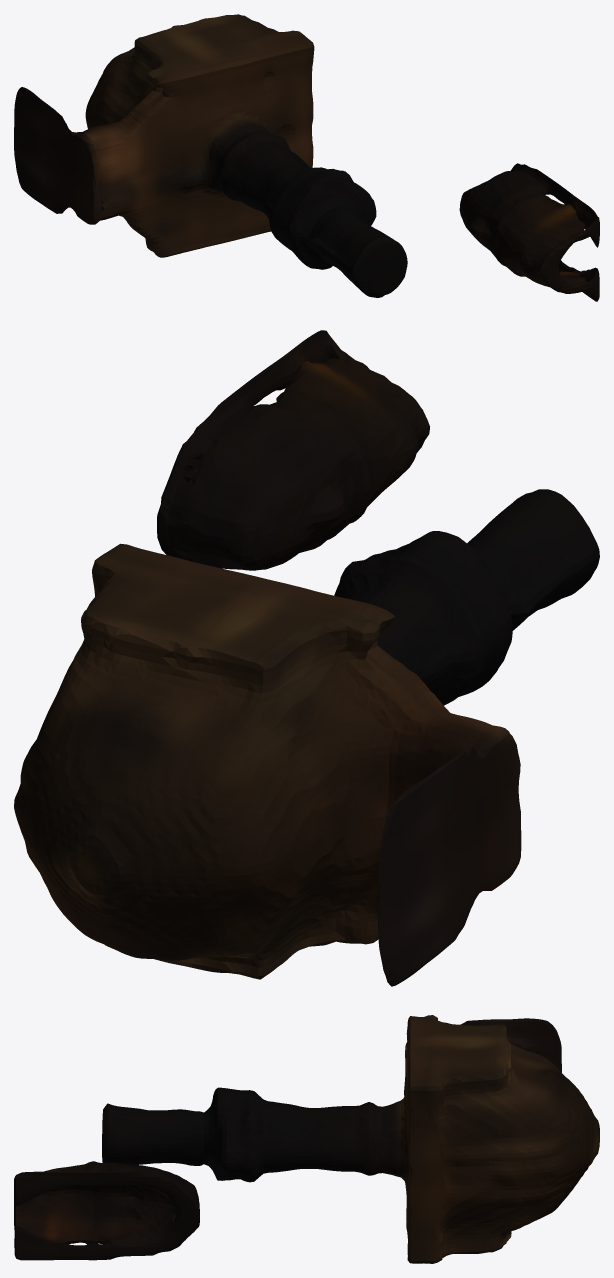
File: torch_1749674296.obj
The picture shows the model from 3 angles, top to bottom: view 1: azimuth 30°, elevation 25°; view 2: azimuth 150°, elevation 25°; view 3: azimuth 270°, elevation 25°; orthographic projection. The views are drawn at different scales.
Bounding box in the file's own units: 1.19 × 0.6676 × 1.98.
